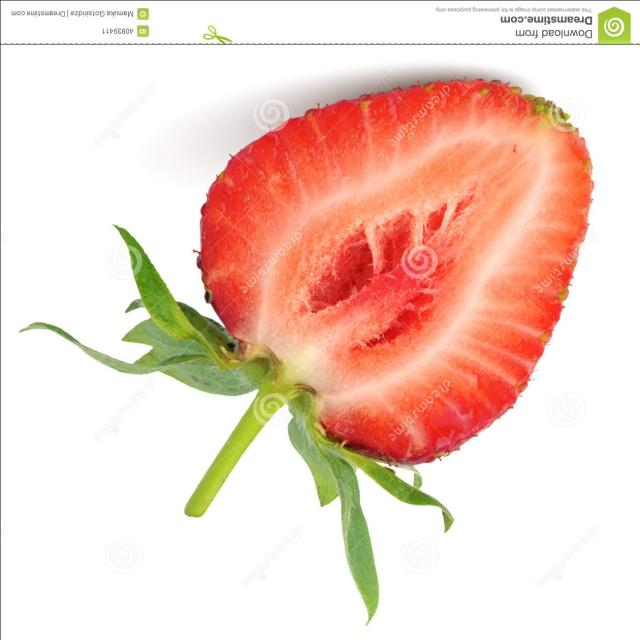strawberry: (108, 64, 600, 564)
